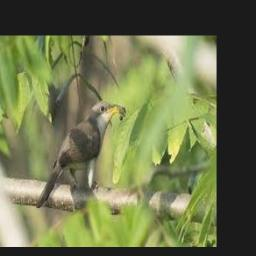Cuckoo: (36, 102, 124, 208)
